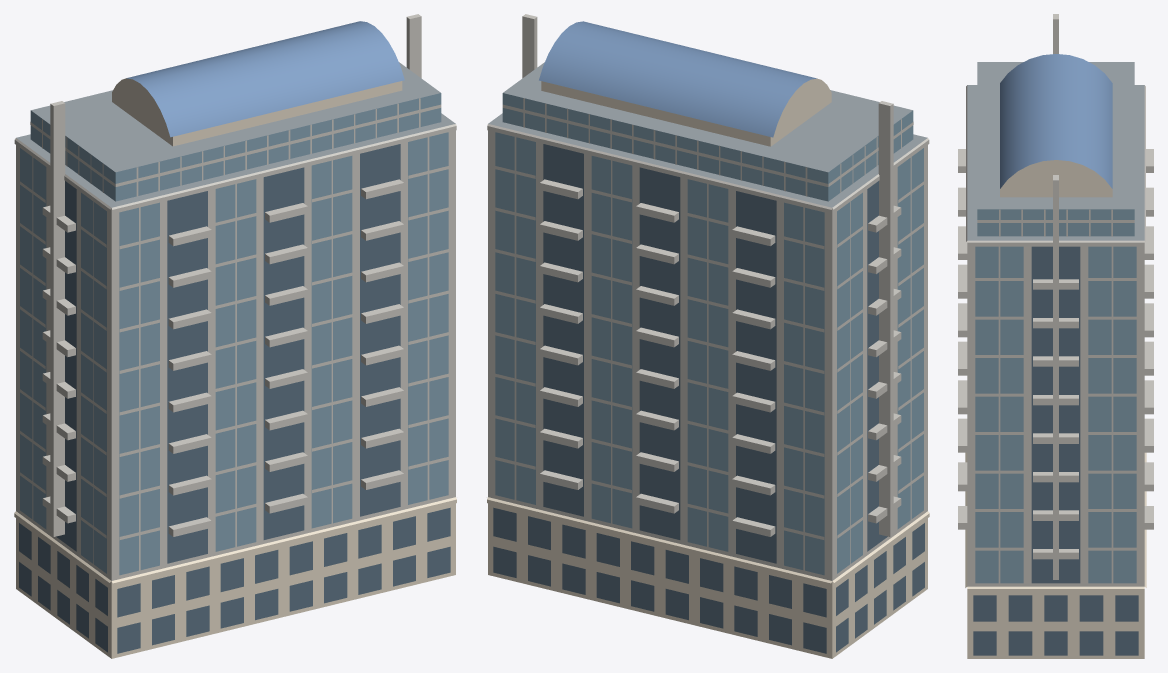
Rendered from ral-skyhouse-raleigh.glb.
3 renders of one model, left to right at view 1: azimuth 30°, elevation 25°; view 2: azimuth 150°, elevation 25°; view 3: azimuth 270°, elevation 25°, orthographic. The views are drawn at different scales.
Visible parts, largest first — view 1: SkyHouse Raleigh; view 2: SkyHouse Raleigh; view 3: SkyHouse Raleigh.
Boxes of the visible parts, x1=… form: SkyHouse Raleigh: x1=14, y1=14, x2=456, y2=658; SkyHouse Raleigh: x1=487, y1=14, x2=929, y2=658; SkyHouse Raleigh: x1=958, y1=14, x2=1153, y2=658.
Size of the model in its own units: 59.3 by 80.4 by 29.5.
